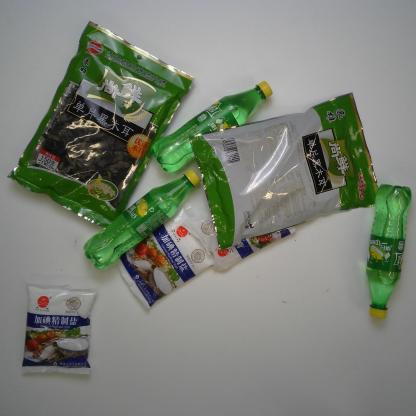Dried Food: (4, 17, 196, 233), (189, 89, 381, 250)
Drink: (82, 167, 204, 272), (150, 79, 274, 176), (363, 180, 414, 323)
Seasoner: (172, 189, 307, 274), (114, 208, 216, 306), (18, 281, 102, 378)
